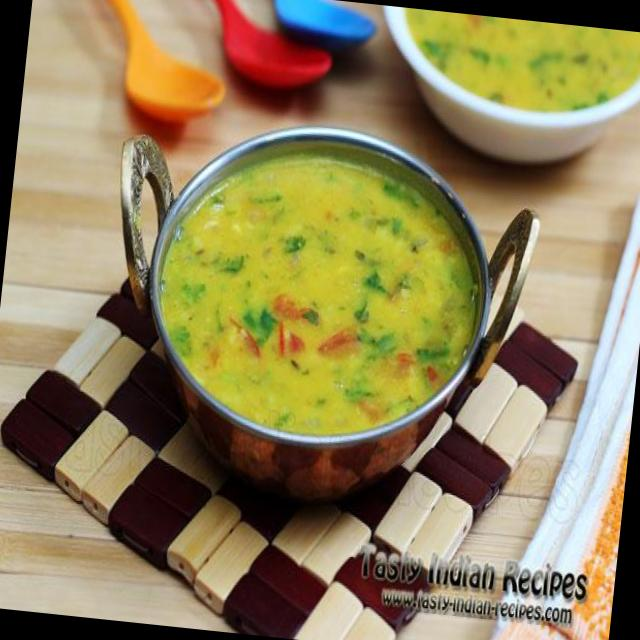dal: (147, 132, 494, 486), (396, 10, 640, 121)
